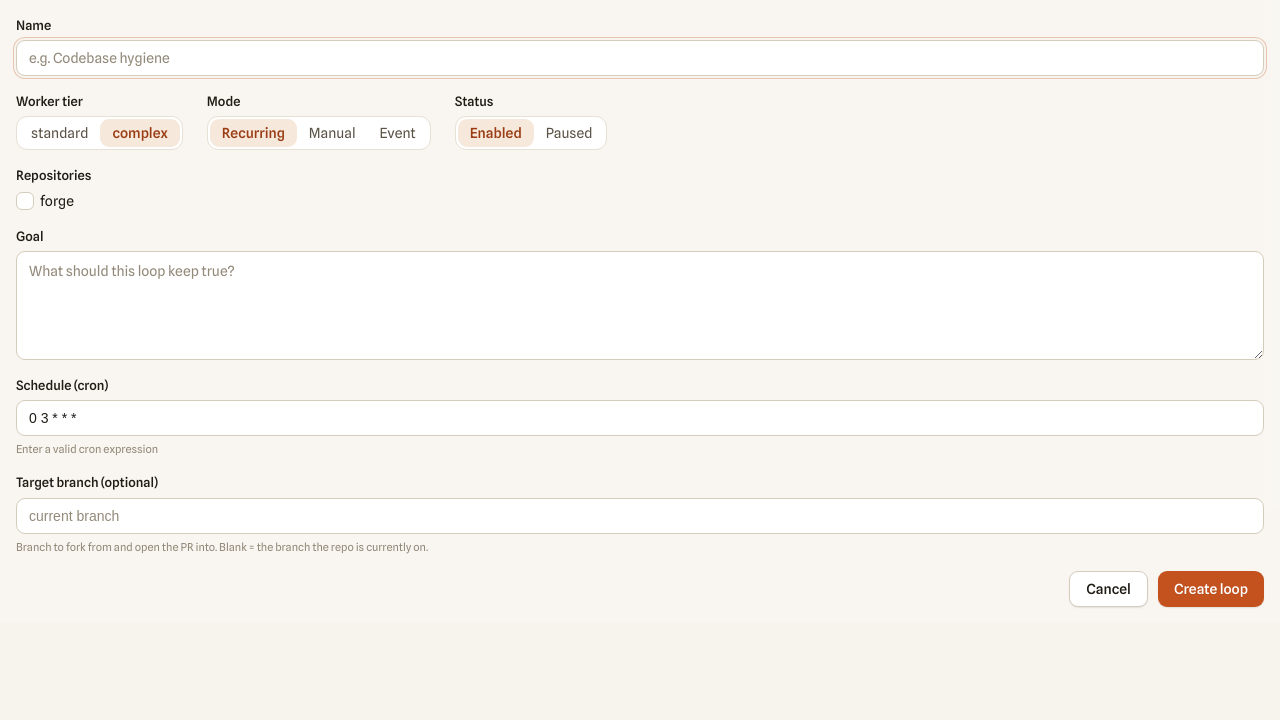
Test: LoopForm › creates an event-mode loop and reveals the plaintext token once
Type "Incident loop" into the field labelled "Name" at (640, 58), box [16,40,1264,76]
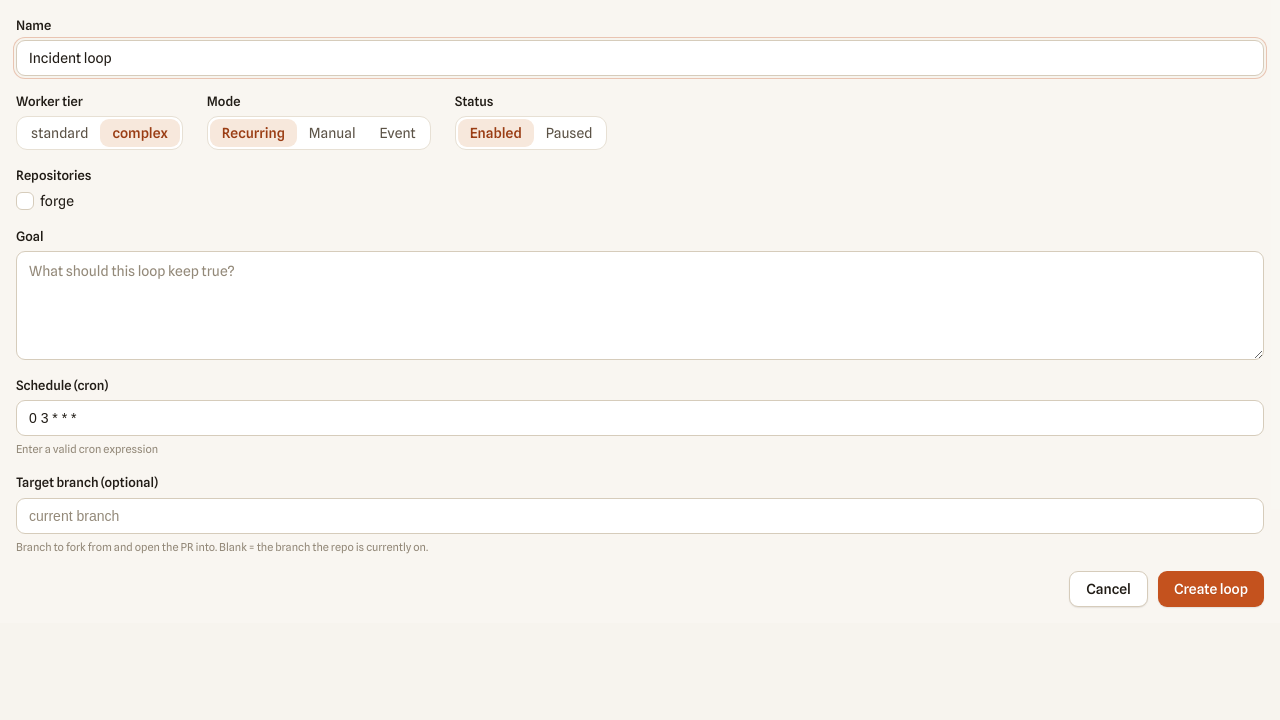
Click the radio button labelled "Event" at (398, 133), box [368,119,428,147]
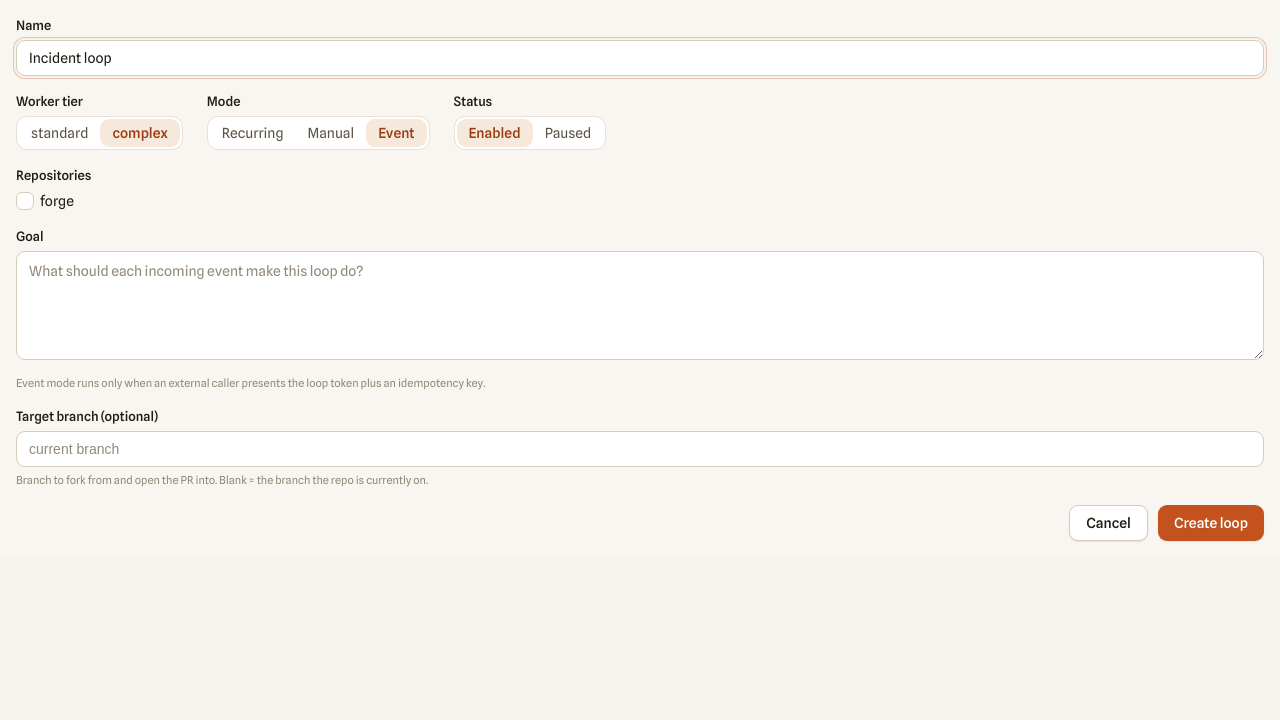
Click the checkbox named "forge" at (25, 201), box [16,192,34,210]
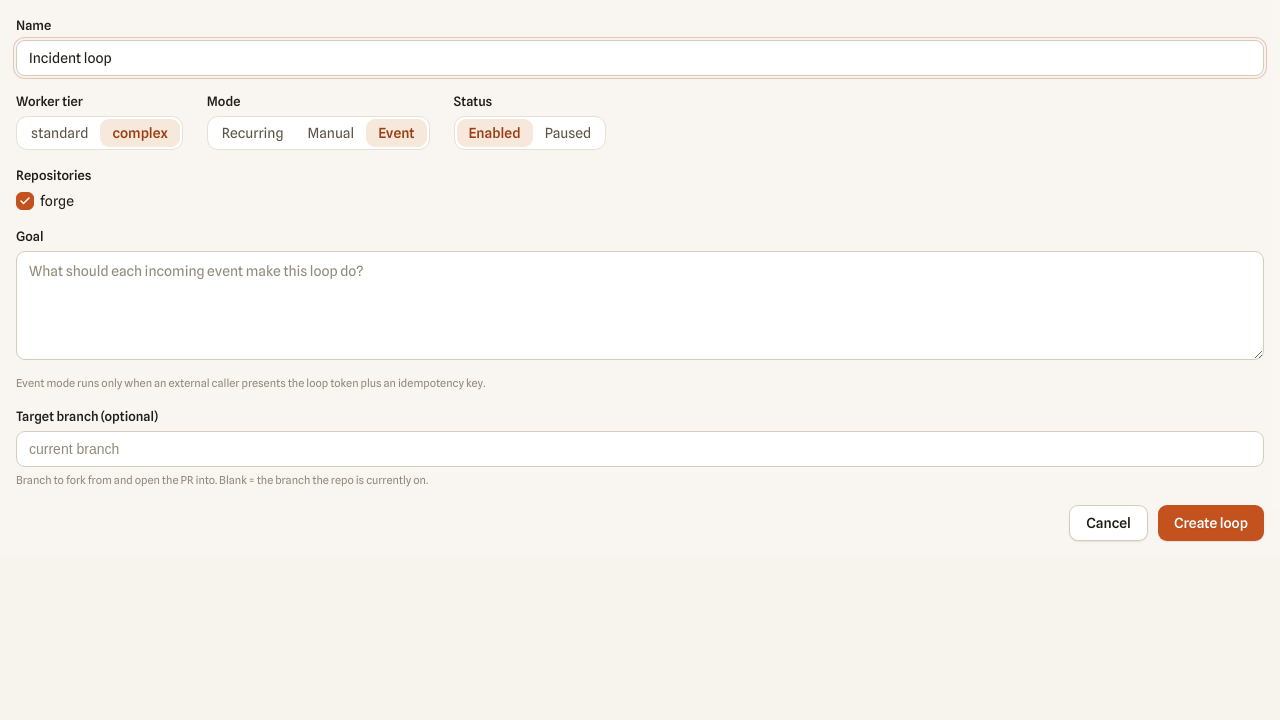
Type "Investigate incident" into the text box labelled "Goal" at (640, 305), box [16,251,1264,360]
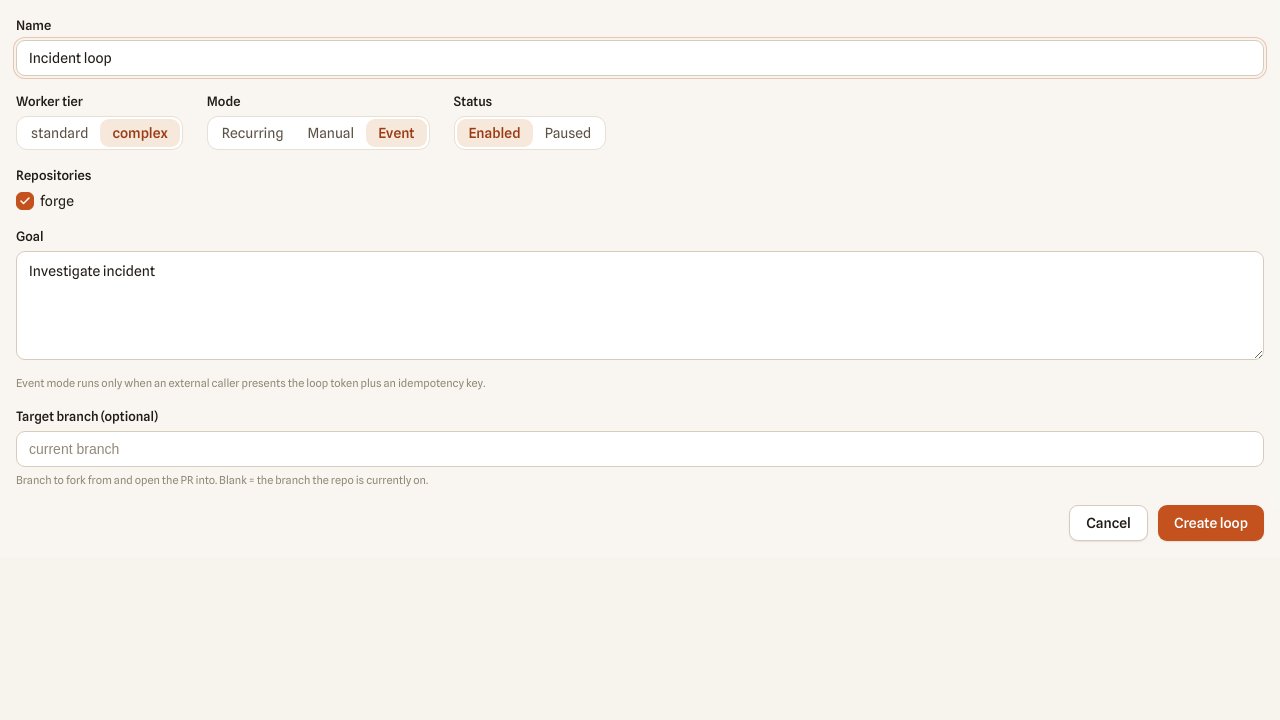
Click the button "Create loop" at (1211, 523), box [1158,505,1264,541]
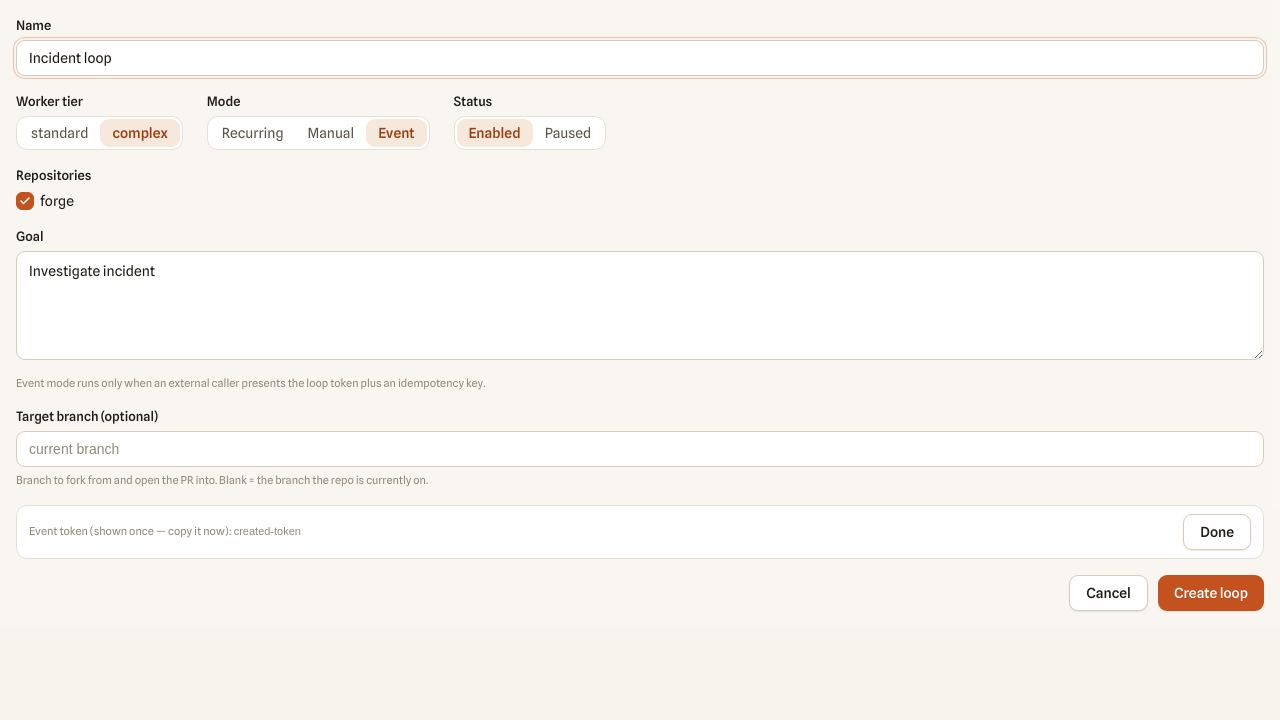
Check: the text "created-token" is shown, box [234,525,301,537]
